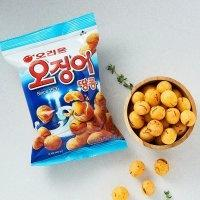snack: (0, 11, 128, 166)
